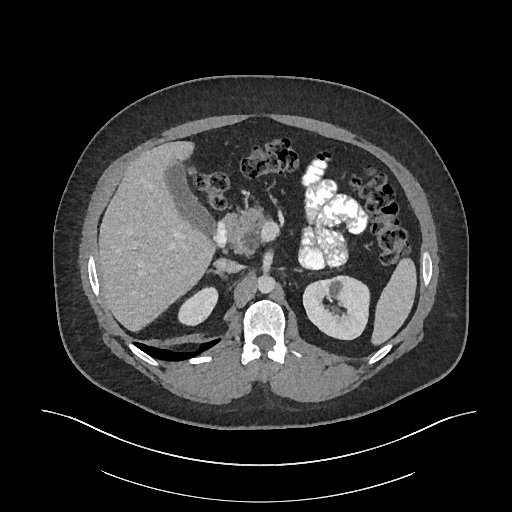Lesion: (327, 273, 346, 300)
